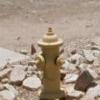Hydrant: (29, 20, 72, 100)
